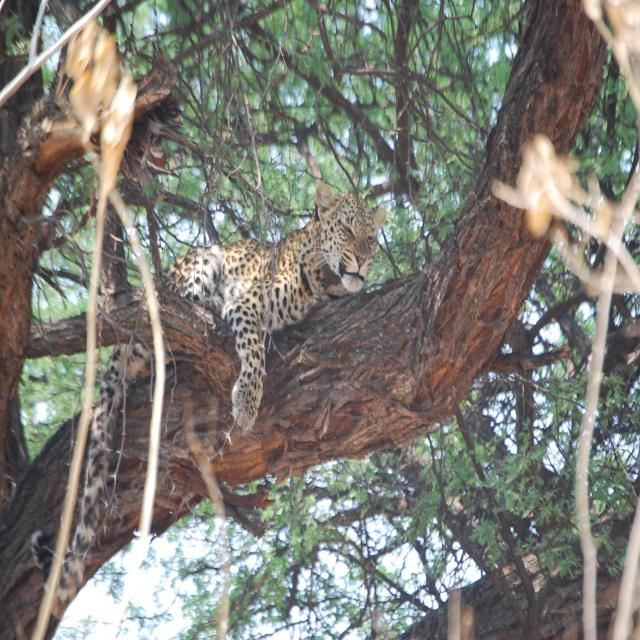Leopard: (15, 186, 391, 603)
